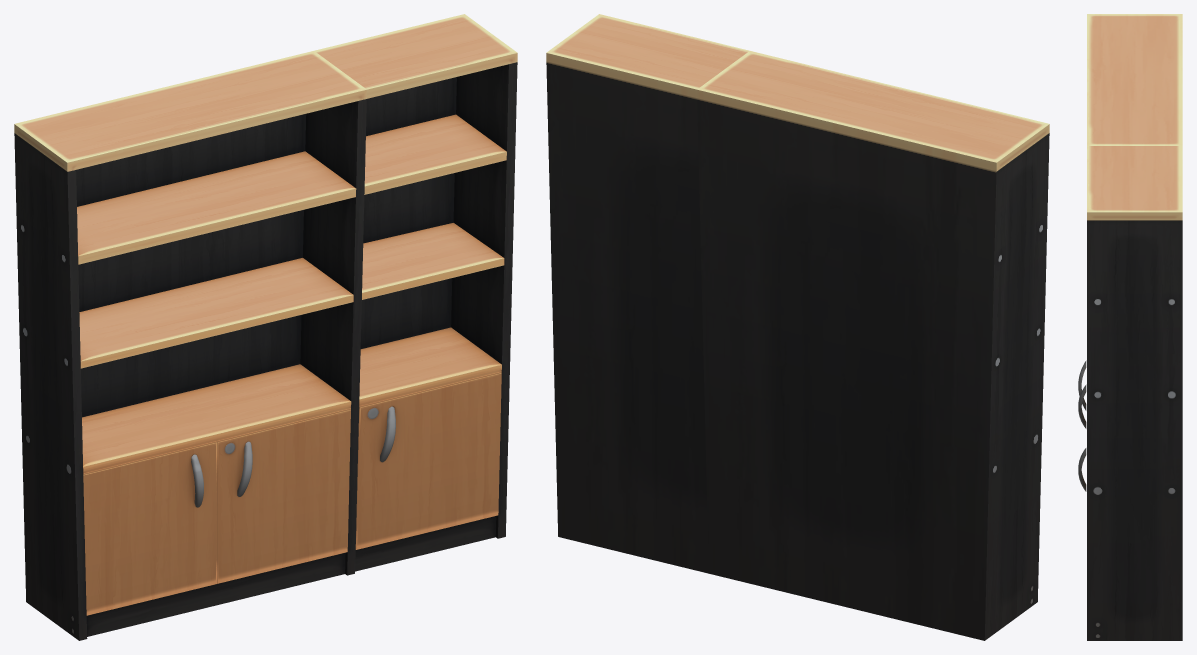
File: OfficeCabinet01_2.FBX
3 views of the same model, side by side, from view 1: azimuth 30°, elevation 25°; view 2: azimuth 150°, elevation 25°; view 3: azimuth 270°, elevation 25° (orthographic). The views are drawn at different scales.
Visible parts, largest first — view 1: OfficeCabinet01_2; view 2: OfficeCabinet01_2; view 3: OfficeCabinet01_2.
Boxes of the visible parts, box(x1,y1,x2,y2) form: OfficeCabinet01_2: box(14, 14, 517, 640); OfficeCabinet01_2: box(546, 14, 1049, 640); OfficeCabinet01_2: box(1078, 14, 1182, 640).
Size of what is drawn, in the model's own units: 2.45 by 2.5 by 0.5447.
